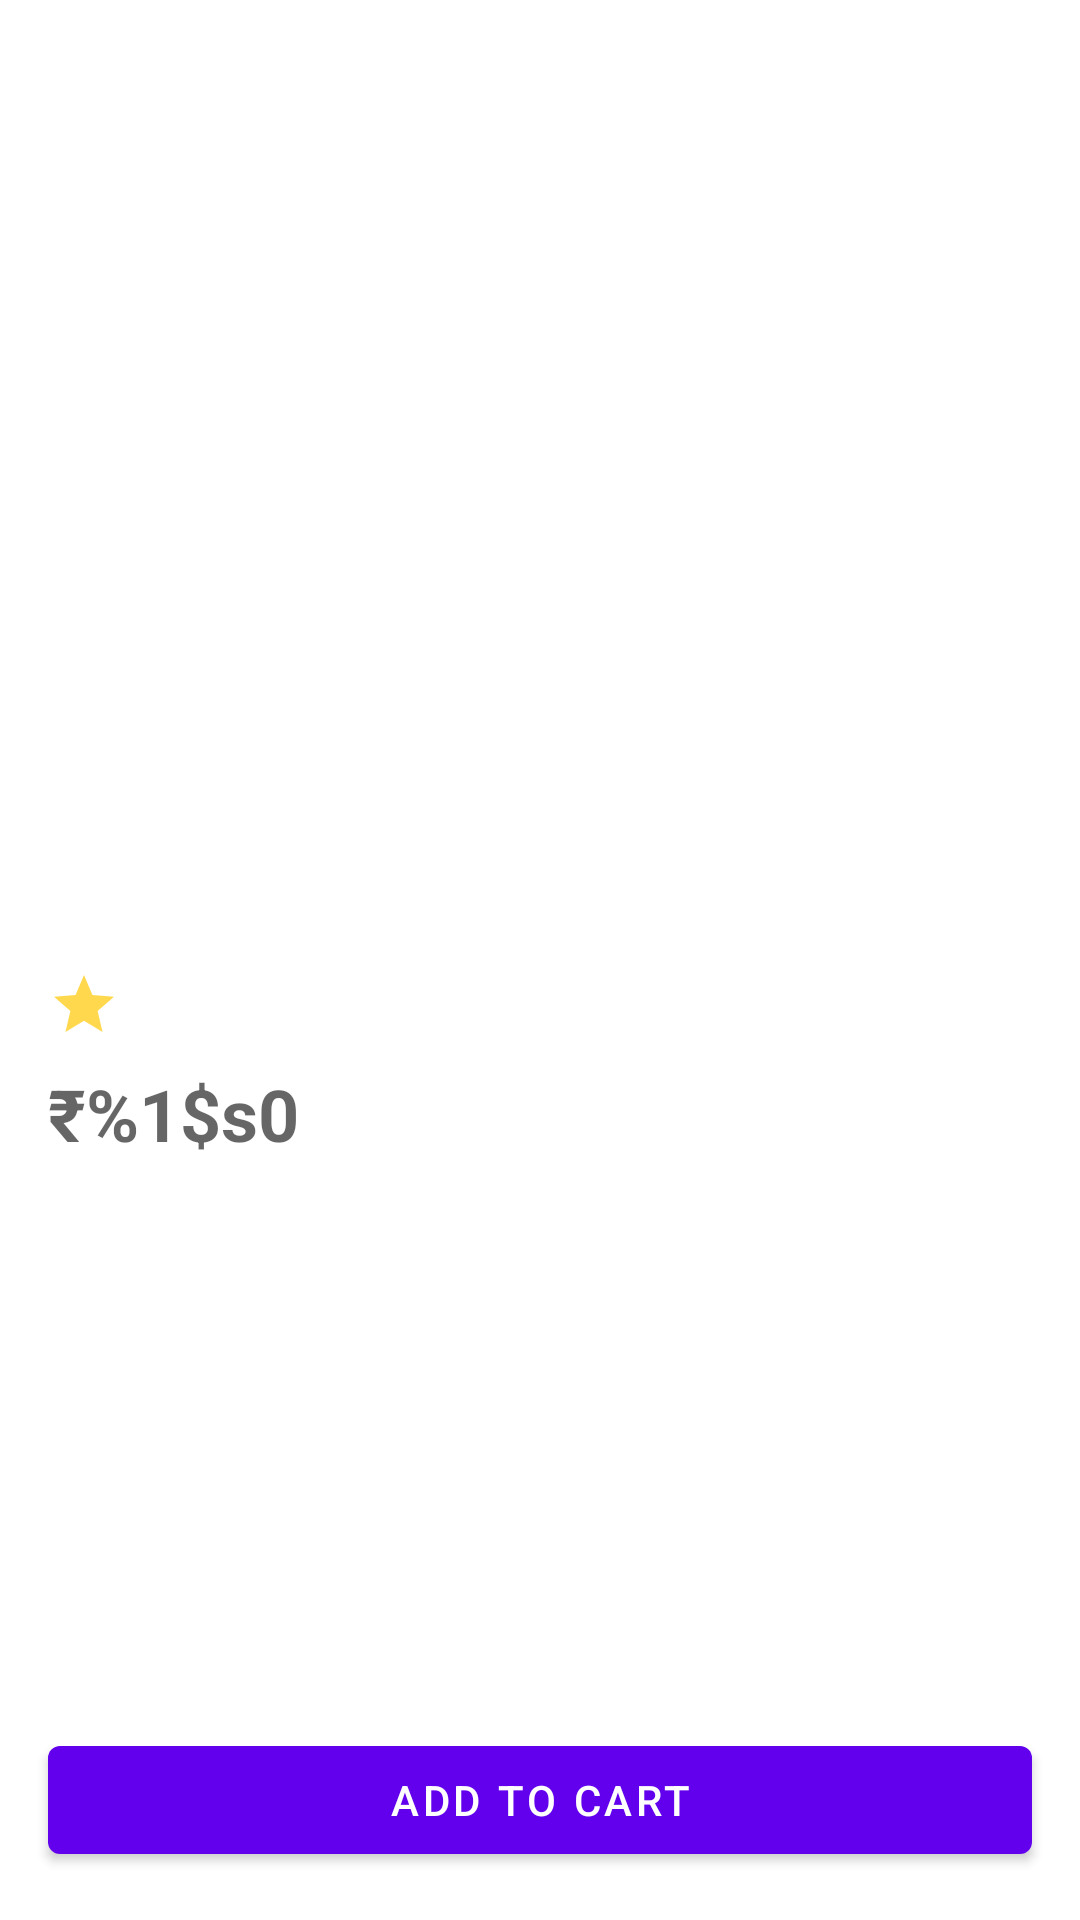

Where to tap for icons on this 1080w x 1920h app screen, as [x,y]:
Icon star: [84,1003]
